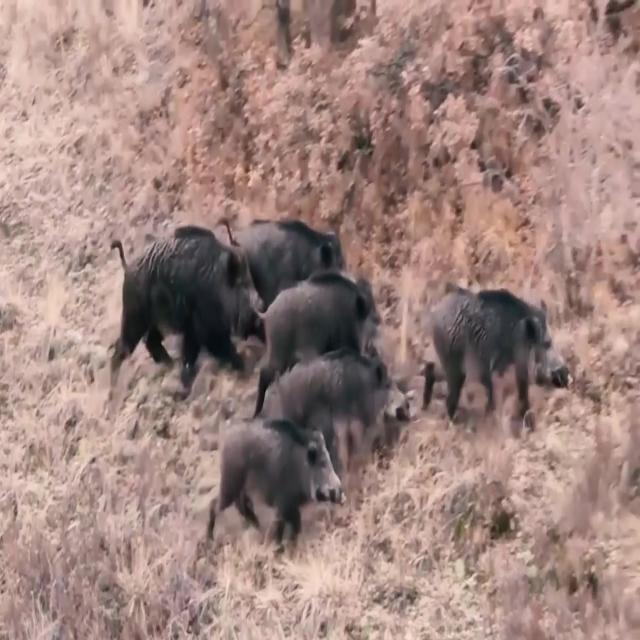pig: (93, 203, 262, 409), (422, 268, 601, 440), (222, 388, 353, 594), (282, 318, 427, 497), (248, 271, 386, 381)
